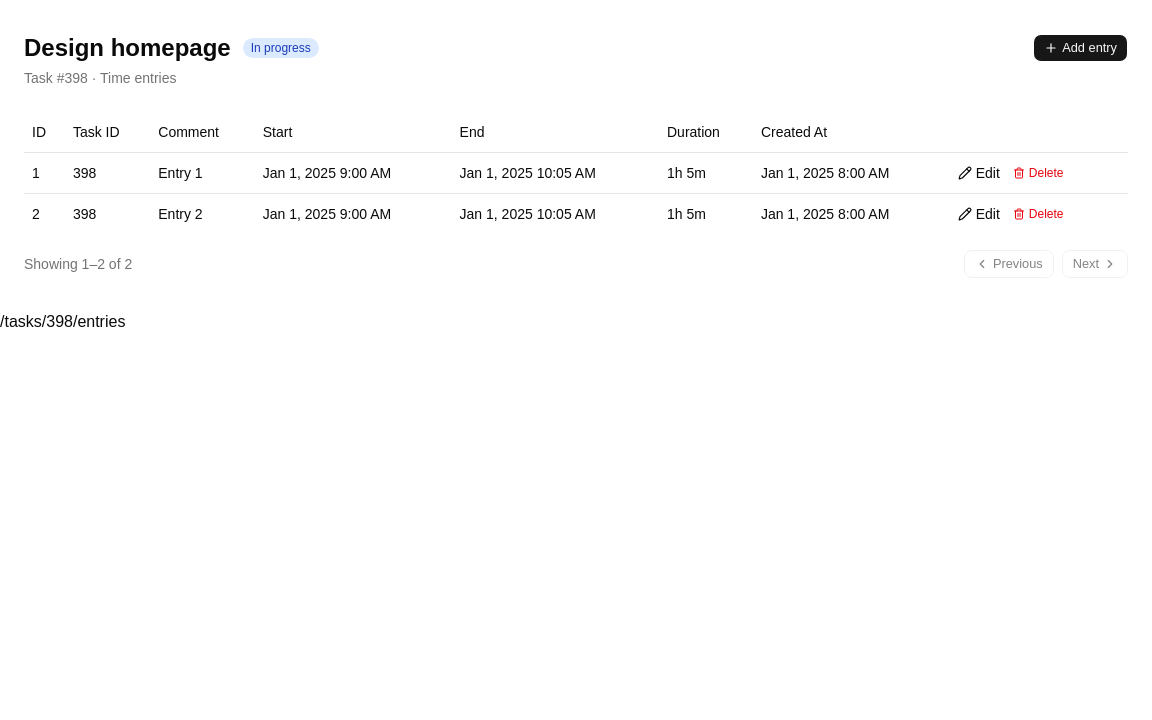
it: TaskEntriesPage › deleting › deletes the entry, refreshes the list and says so
Click the button named "Delete entry 1" at (1038, 172), box [1004,160,1072,184]
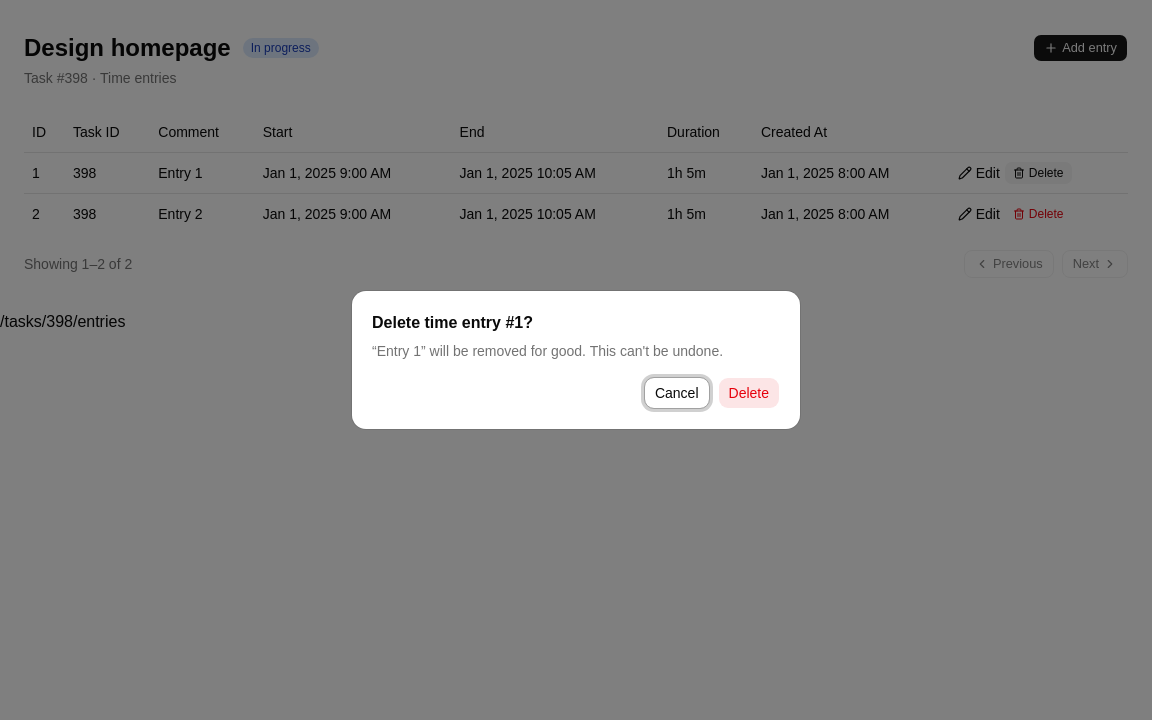
Click the button "Delete" at (749, 393), box [718,377,780,409]
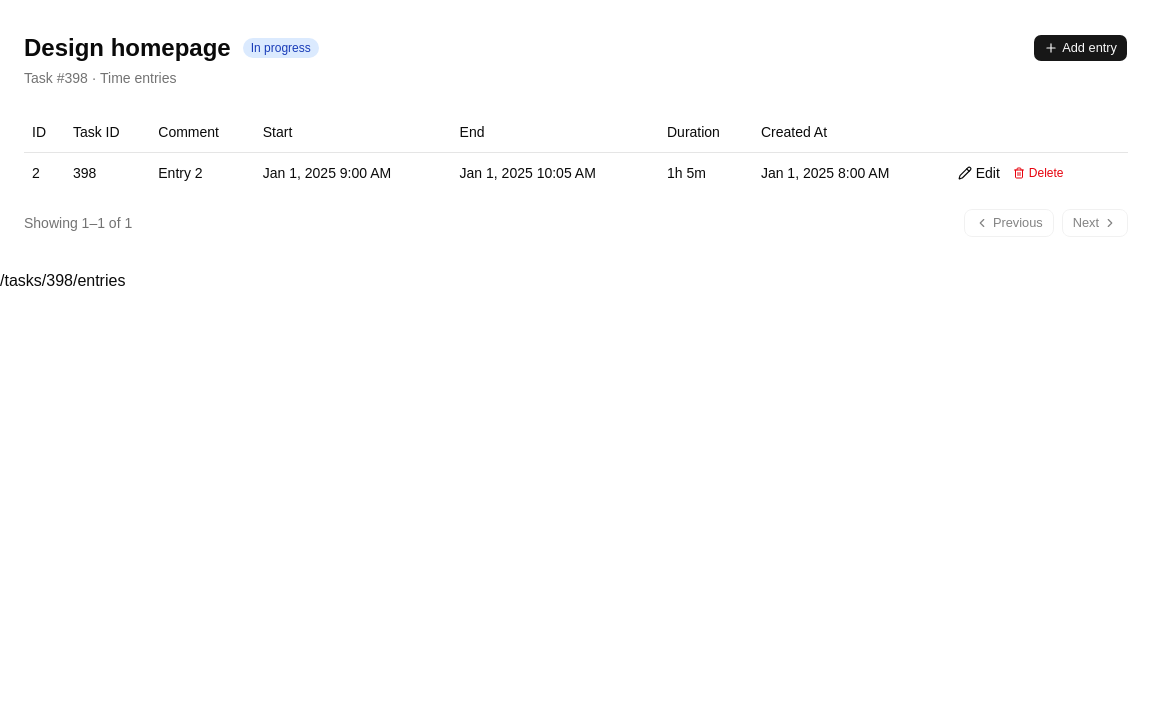
Expected: the number of rows is 2, [24,112,1128,152]; [24,152,1128,192]
Expected: the dialog is gone
